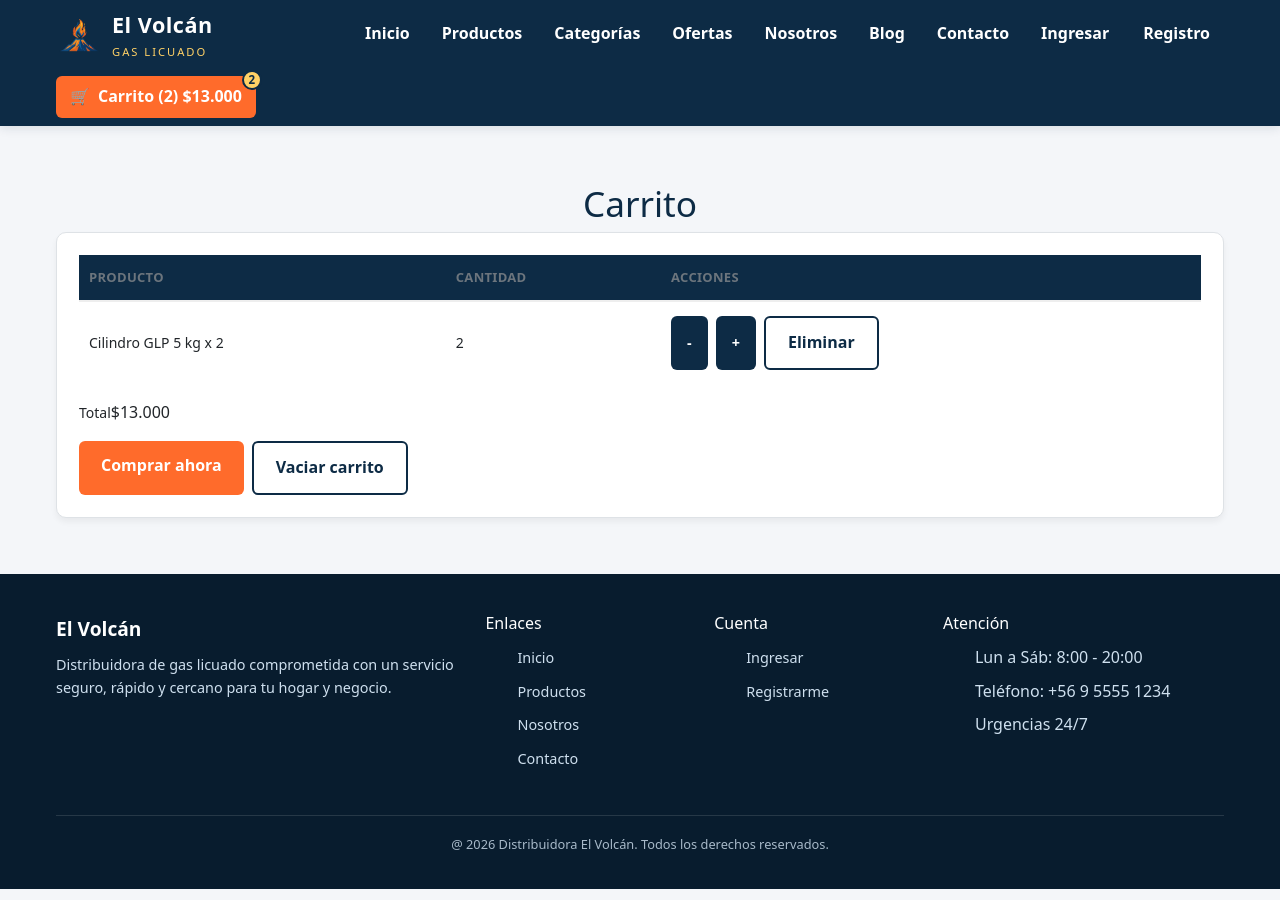
it: Rutas de la aplicacion (App) › deberia mostrar los productos del carrito y permitir subir la cantidad
Expected: the text "Cilindro GLP 5 kg x 2" is shown, [79,301,446,384]
Click the button "+" at (736, 343), box [716,316,756,370]
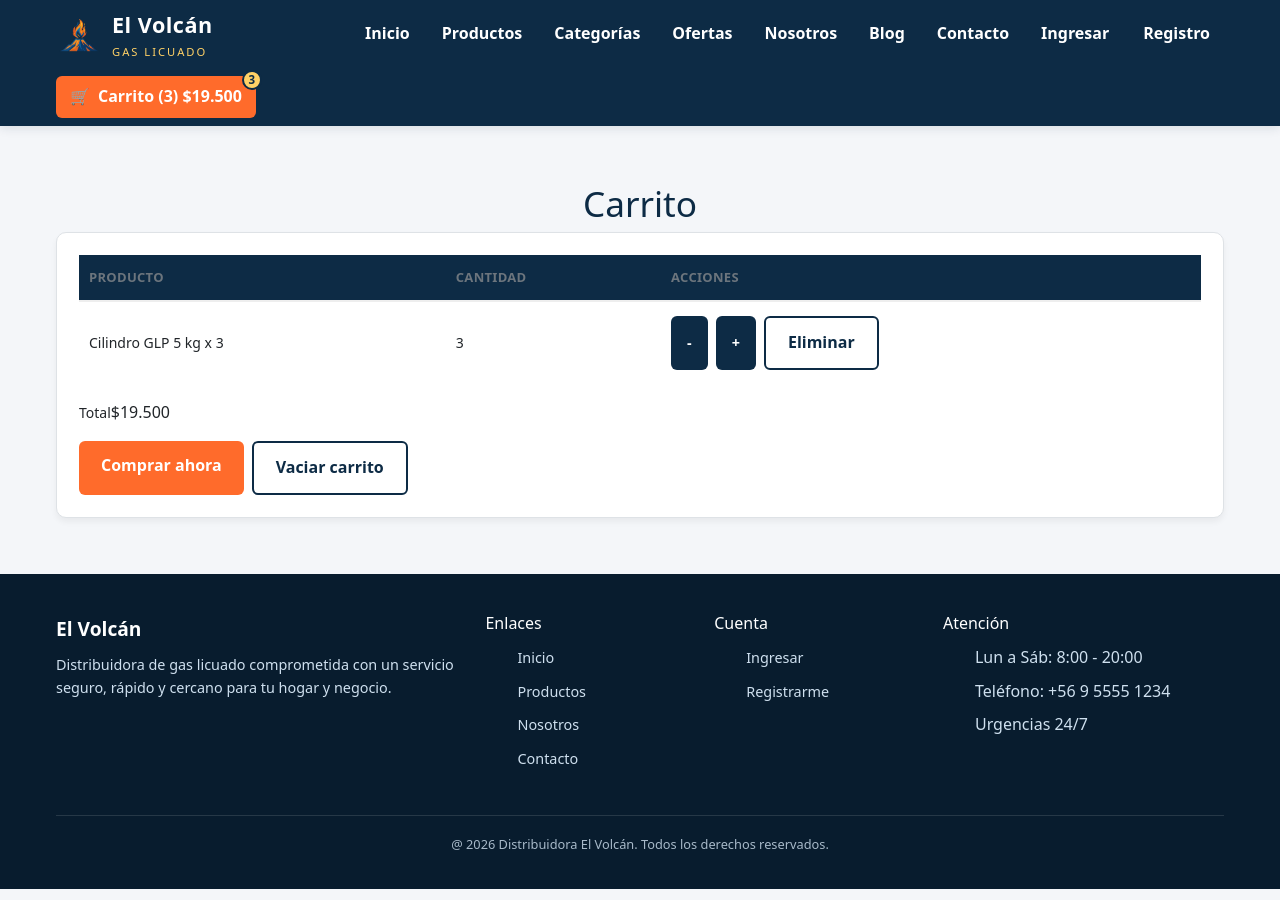
Now the text "Cilindro GLP 5 kg x 3" is shown, box [79,301,446,384]
